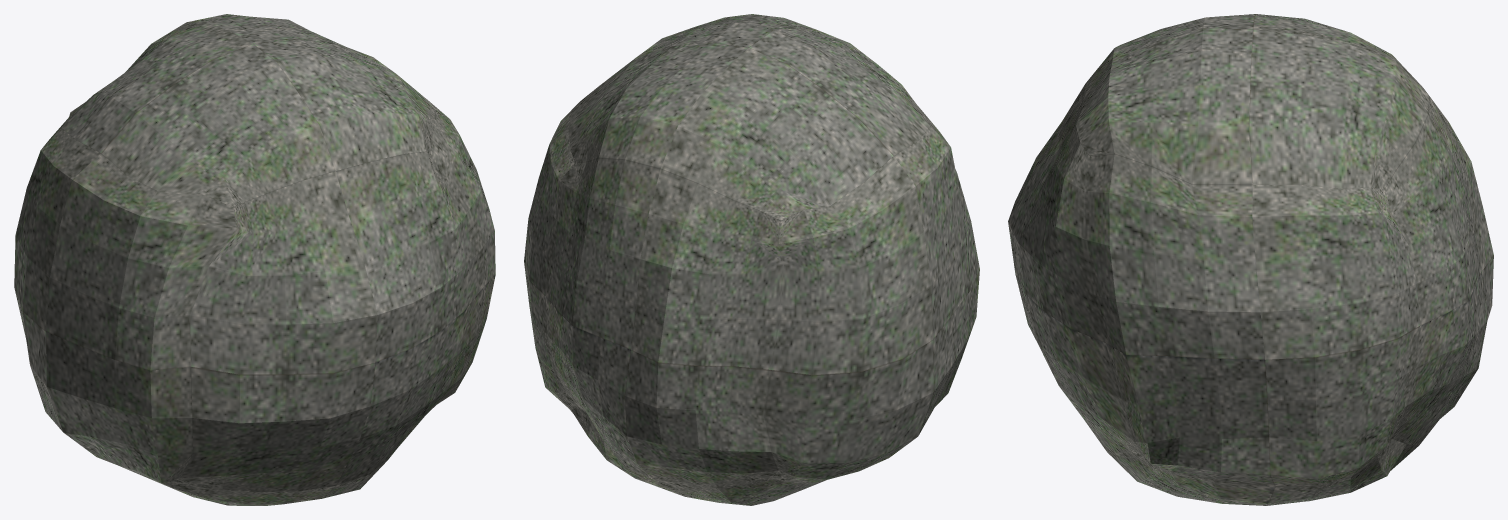
File: SM_EC_Rock_89.fbx
3 views of the same model, side by side, from view 1: azimuth 30°, elevation 25°; view 2: azimuth 150°, elevation 25°; view 3: azimuth 270°, elevation 25° (orthographic). The views are drawn at different scales.
Parts seen in each view (by area): view 1: SM_EC_Rock_89; view 2: SM_EC_Rock_89; view 3: SM_EC_Rock_89.
Boxes of the visible parts, box(x1,y1,x2,y2) form: SM_EC_Rock_89: box(14, 14, 495, 505); SM_EC_Rock_89: box(524, 14, 979, 505); SM_EC_Rock_89: box(1008, 14, 1493, 505).
Size of the model in its own units: 1.84 by 1.88 by 1.95.
